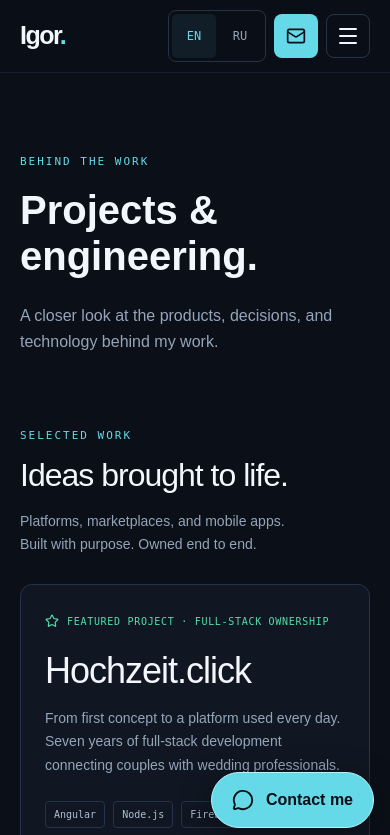
Test: Portfolio visitor journeys › opens navigation and closes it after an anchor selection
Click the button named "Open navigation". click: (348, 36)
box: [326,14,370,58]
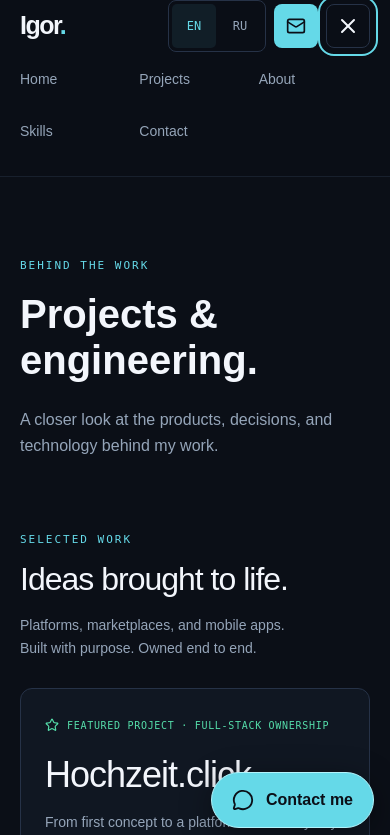
Result: the button named "Close navigation" is expanded at [326,4,370,48]
Click the link "Projects". click: (165, 79)
box: [139,71,190,87]
(page scrolled)
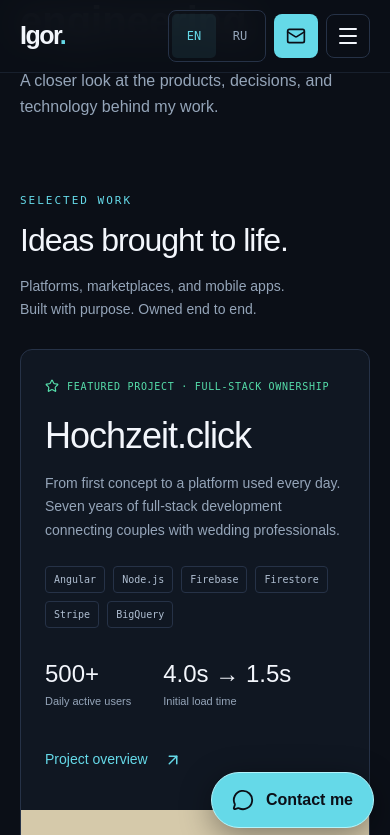
Result: the button named "Open navigation" is collapsed at [326,14,370,58]
